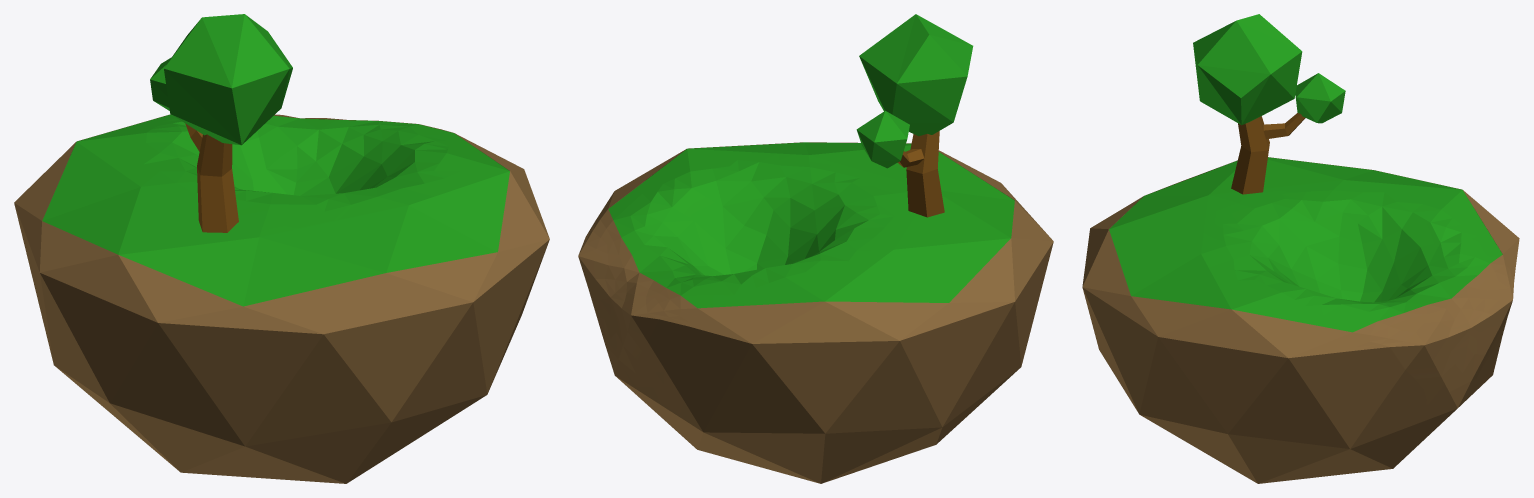
File: water_island.dae
The picture shows the model from 3 angles, left to right: view 1: azimuth 30°, elevation 25°; view 2: azimuth 150°, elevation 25°; view 3: azimuth 270°, elevation 25°; orthographic projection. The views are drawn at different scales.
Visible parts, largest first — view 1: Icosphere_004_Icosphere_005, Icosphere_003_Icosphere_004, Icosphere_001, Cylinder_001, Icosphere_002; view 2: Icosphere_004_Icosphere_005, Icosphere_003_Icosphere_004, Icosphere_001, Cylinder_001, Icosphere_002; view 3: Icosphere_004_Icosphere_005, Icosphere_003_Icosphere_004, Icosphere_001, Cylinder_001, Icosphere_002.
Part boxes in pixels (bbox=[...]): Icosphere_004_Icosphere_005: bbox=[14, 114, 549, 483]; Icosphere_003_Icosphere_004: bbox=[42, 114, 509, 306]; Icosphere_001: bbox=[164, 14, 292, 145]; Cylinder_001: bbox=[185, 123, 238, 232]; Icosphere_002: bbox=[150, 57, 171, 110]; Icosphere_004_Icosphere_005: bbox=[578, 142, 1053, 483]; Icosphere_003_Icosphere_004: bbox=[608, 142, 1014, 308]; Icosphere_001: bbox=[859, 14, 973, 136]; Cylinder_001: bbox=[897, 131, 944, 217]; Icosphere_002: bbox=[856, 110, 909, 168]; Icosphere_004_Icosphere_005: bbox=[1082, 157, 1519, 483]; Icosphere_003_Icosphere_004: bbox=[1109, 157, 1502, 332]; Icosphere_001: bbox=[1193, 14, 1302, 125]; Cylinder_001: bbox=[1231, 113, 1305, 194]; Icosphere_002: bbox=[1295, 73, 1345, 123].
Size of the model in its own units: 10.36 by 10.03 by 10.54.
